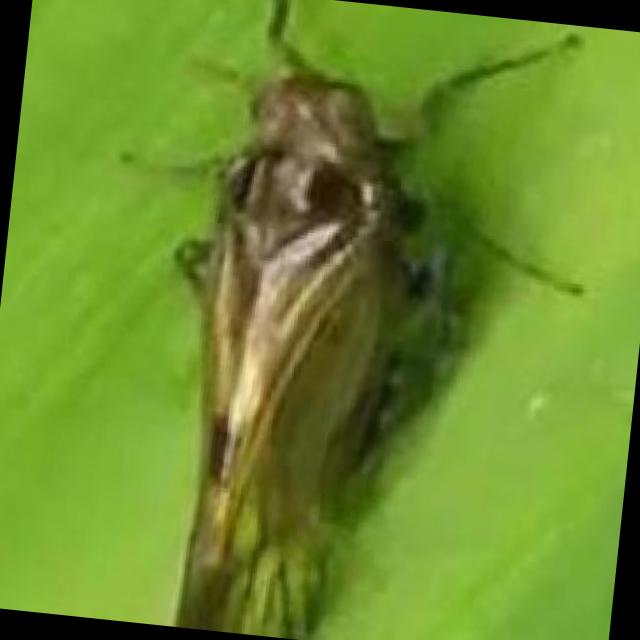brown-planthopper: (160, 45, 454, 640)
